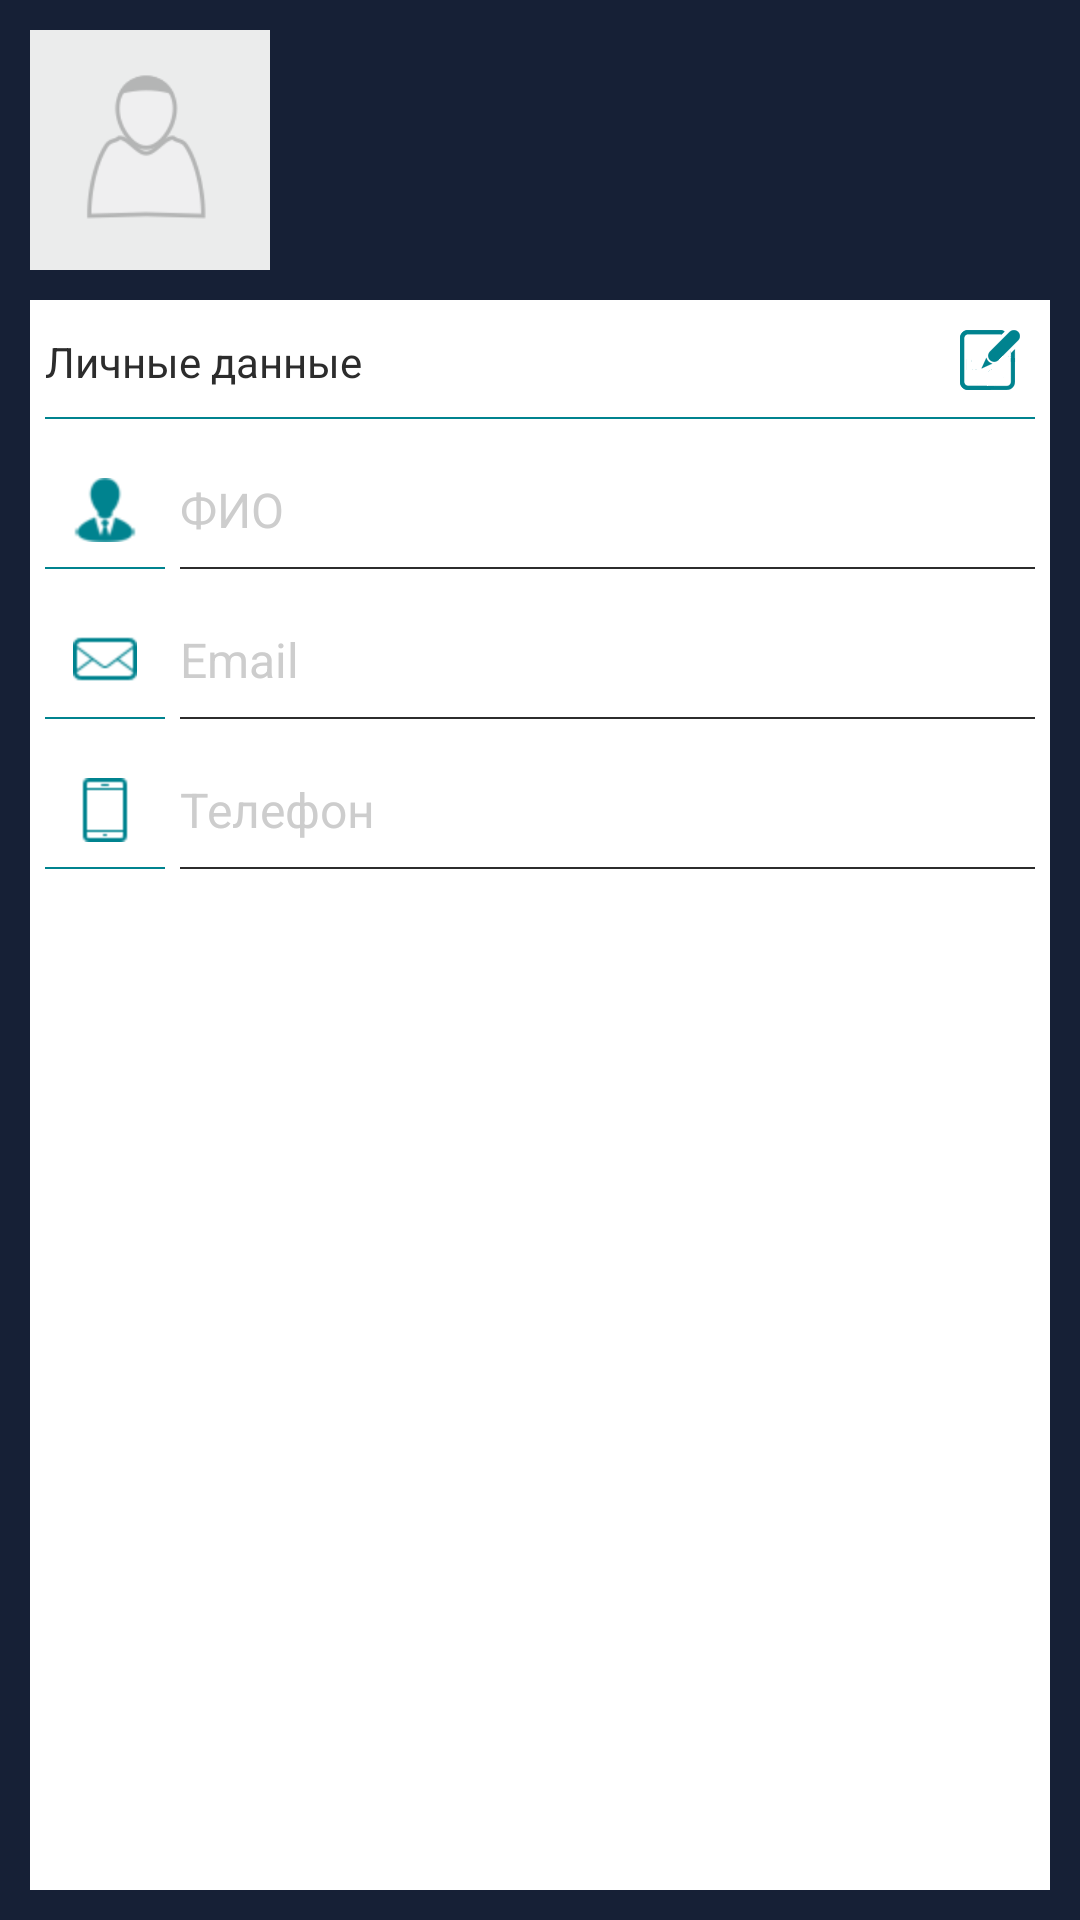

Icon bounding boxes for this 1080w x 1920h phone screenshot, format (x1, y1, x2, y2):
edit: (960, 330, 1020, 390)
